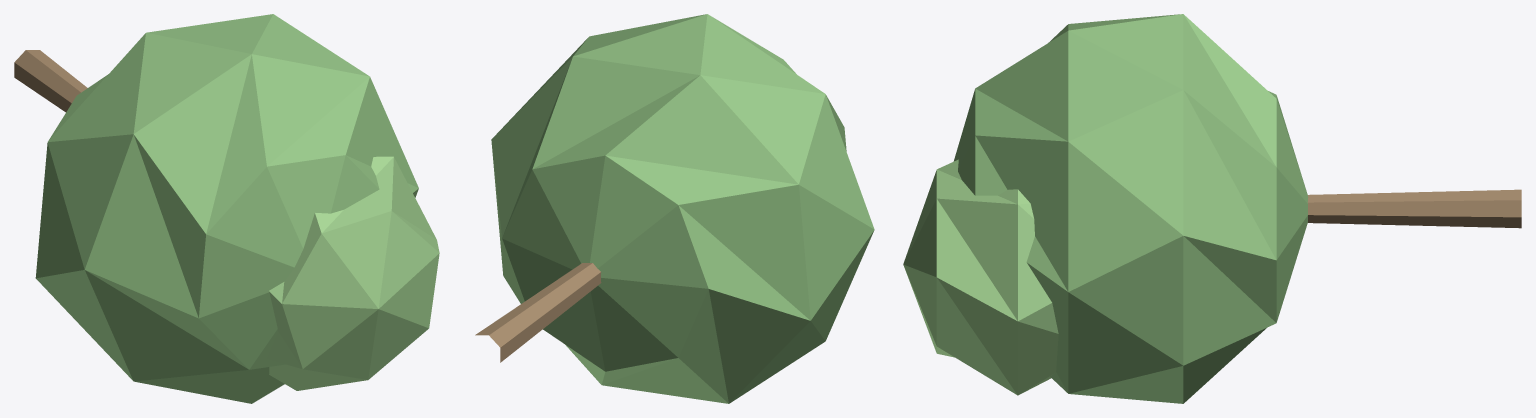
The model's file is tree.glb.
3 views of the same model, side by side, from view 1: azimuth 30°, elevation 25°; view 2: azimuth 150°, elevation 25°; view 3: azimuth 270°, elevation 25° (orthographic).
Bounding box in the file's own units: 4.37 × 4.37 × 6.88.
